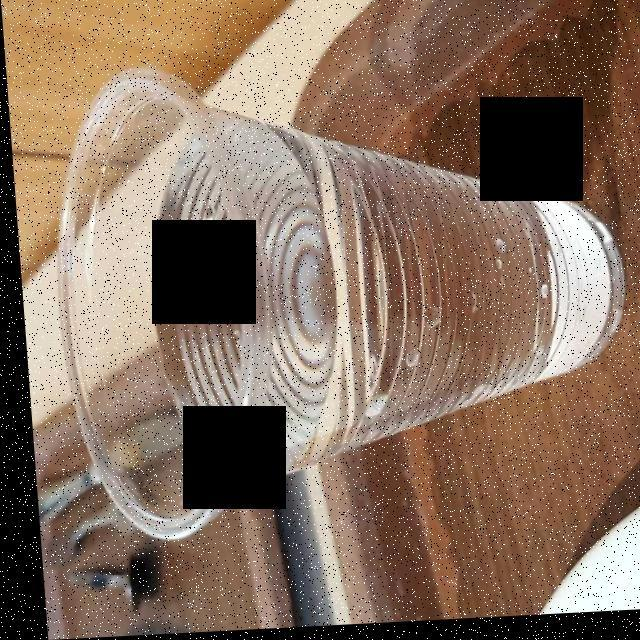water: (122, 122, 591, 488)
